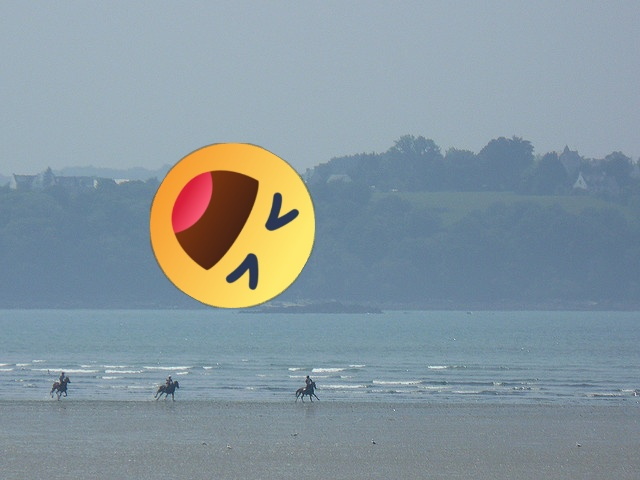haha: (150, 143, 315, 308)
